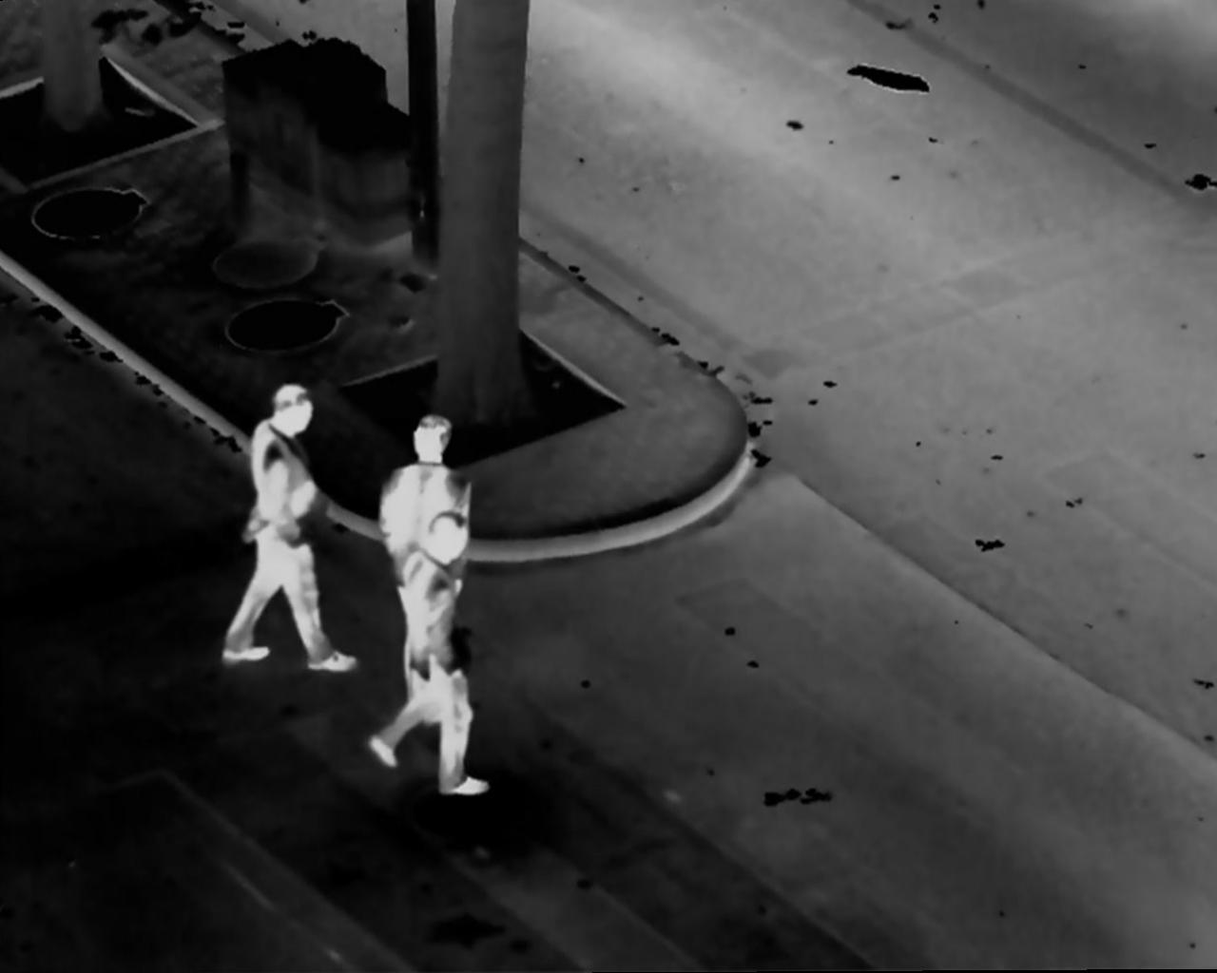person: (223, 372, 356, 675), (375, 513, 487, 798), (380, 408, 469, 725)
